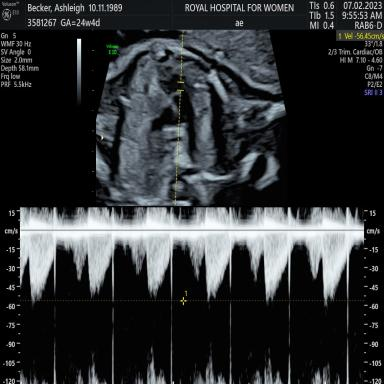Ultrasound-Waves: (26, 207, 360, 384)
